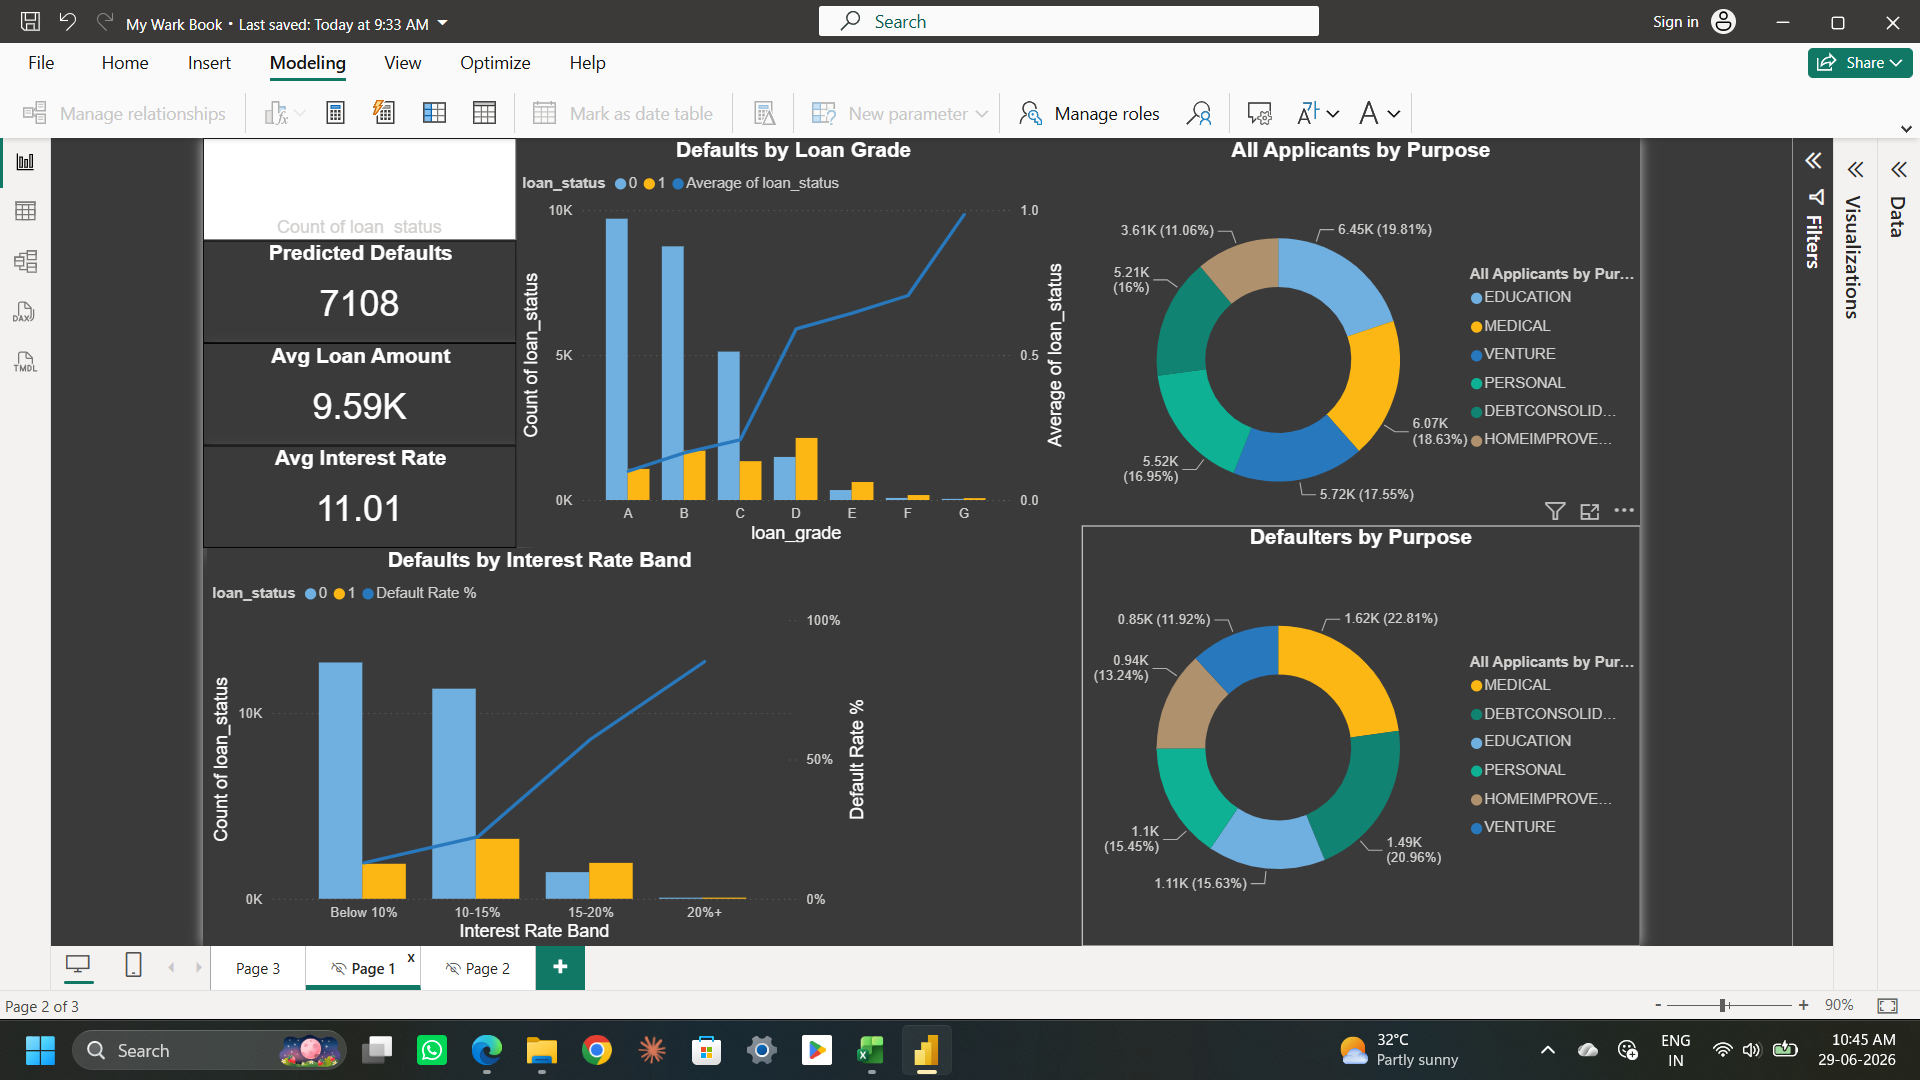

This screenshot's page, from the dashboard's own definition file:
{"tool":"powerbi","page":{"name":"Page 1","canvas":[1280,720],"ordinal":1},"visuals":[{"type":"card","title":"Total Applicants ","fields":{"Values":["CountNonNull(new_credit_risk_dataset.loan_status)"]},"box":[0,0,279.4,91.2],"z":0},{"type":"card","title":"Predicted Defaults","fields":{"Values":["CountNonNull(new_credit_risk_dataset.loan_status)"]},"box":[0,91.2,279.4,91.2],"z":1000},{"type":"card","title":"Avg Loan Amount","fields":{"Values":["Avg(new_credit_risk_dataset.loan_amnt)"]},"box":[0,182.4,279.4,91.2],"z":2000},{"type":"card","title":"Avg Interest Rate","fields":{"Values":["Avg(new_credit_risk_dataset.loan_int_rate)"]},"box":[0,273.7,279.4,91.2],"z":3000},{"type":"lineClusteredColumnComboChart","title":"Defaults by Loan Grade","fields":{"Category":["new_credit_risk_dataset.loan_grade"],"Series":["new_credit_risk_dataset.loan_status"],"Y":["CountNonNull(new_credit_risk_dataset.loan_status)"],"Y2":["Avg(new_credit_risk_dataset.loan_status)"]},"box":[279.4,0,493.2,364.9],"z":4000},{"type":"donutChart","title":"All Applicants by Purpose","fields":{"Y":["CountNonNull(new_credit_risk_dataset.loan_status)"],"Category":["new_credit_risk_dataset.loan_intent"]},"box":[782.5,0,497.5,374.9],"z":5000},{"type":"donutChart","title":"Defaulters by Purpose","fields":{"Y":["CountNonNull(new_credit_risk_dataset.loan_status)"],"Category":["new_credit_risk_dataset.loan_intent"]},"box":[782.5,344.9,497.5,374.9],"z":6000},{"type":"lineClusteredColumnComboChart","title":"Defaults by Interest Rate Band","fields":{"Y":["CountNonNull(new_credit_risk_dataset.loan_status)"],"Series":["new_credit_risk_dataset.loan_status"],"Y2":["new_credit_risk_dataset.Default Rate %"],"Category":["new_credit_risk_dataset.Interest Rate Band"]},"box":[2.9,364.9,593,354.9],"z":7000}]}

Visuals, with their boxes on the page's 1280x720 design canvas (x1, y1, x2, y2). These are canvas units, not pixel positions in the 1920x1080 screenshot, which may show the page scaled, cropped or inside an application window:
"Total Applicants " card: 0 0 279 91
"Predicted Defaults" card: 0 91 279 182
"Avg Loan Amount" card: 0 182 279 274
"Avg Interest Rate" card: 0 274 279 365
"Defaults by Loan Grade" lineClusteredColumnComboChart: 279 0 773 365
"All Applicants by Purpose" donutChart: 782 0 1280 375
"Defaulters by Purpose" donutChart: 782 345 1280 720
"Defaults by Interest Rate Band" lineClusteredColumnComboChart: 3 365 596 720
